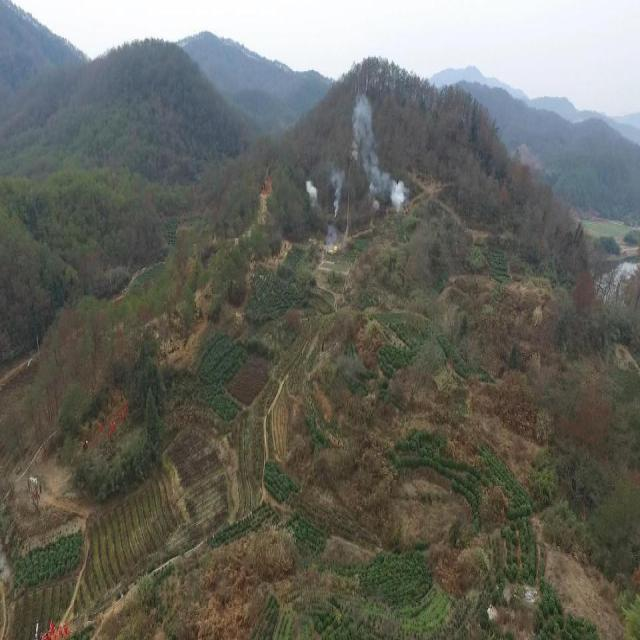Smoke: (303, 92, 409, 255)
